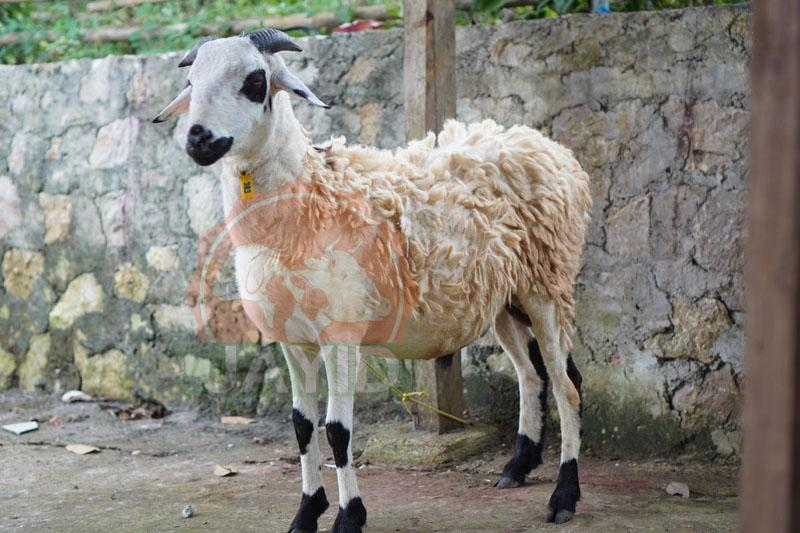Sheep: (149, 16, 337, 212)
